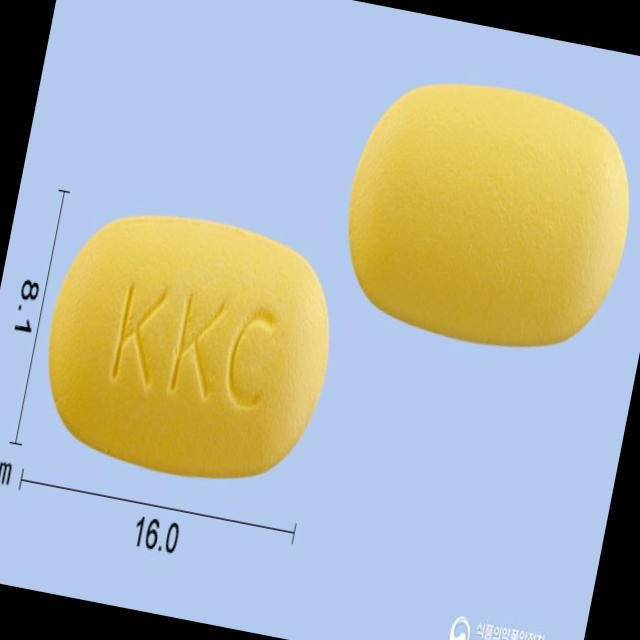Clarion: (21, 189, 356, 508)
